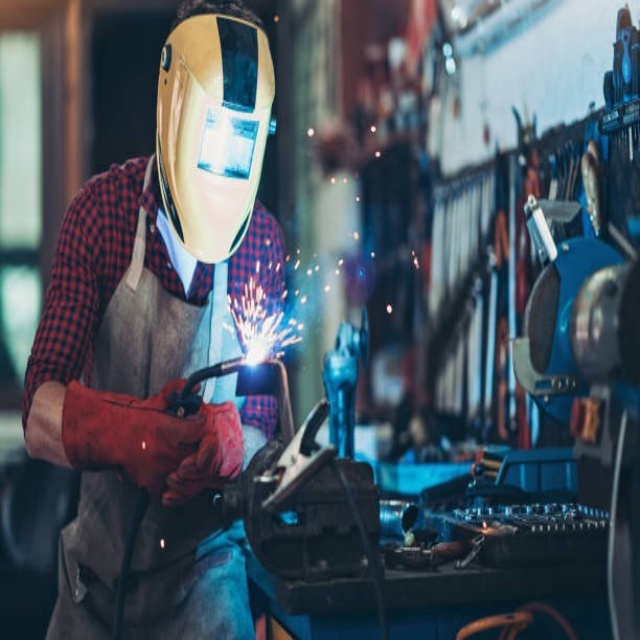Guantes: (59, 369, 200, 486), (158, 392, 246, 516)
